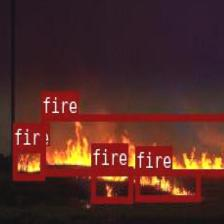fire: (40, 113, 224, 173), (135, 168, 200, 201), (91, 166, 132, 201), (13, 145, 44, 179)
